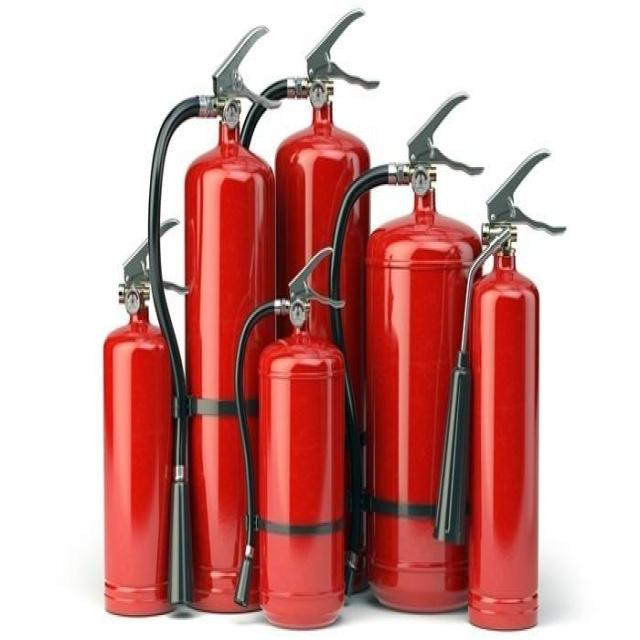fire_extinguisher: (227, 1, 385, 611), (325, 82, 494, 617), (143, 19, 283, 616), (428, 140, 570, 636), (230, 240, 350, 636), (96, 210, 198, 619)
